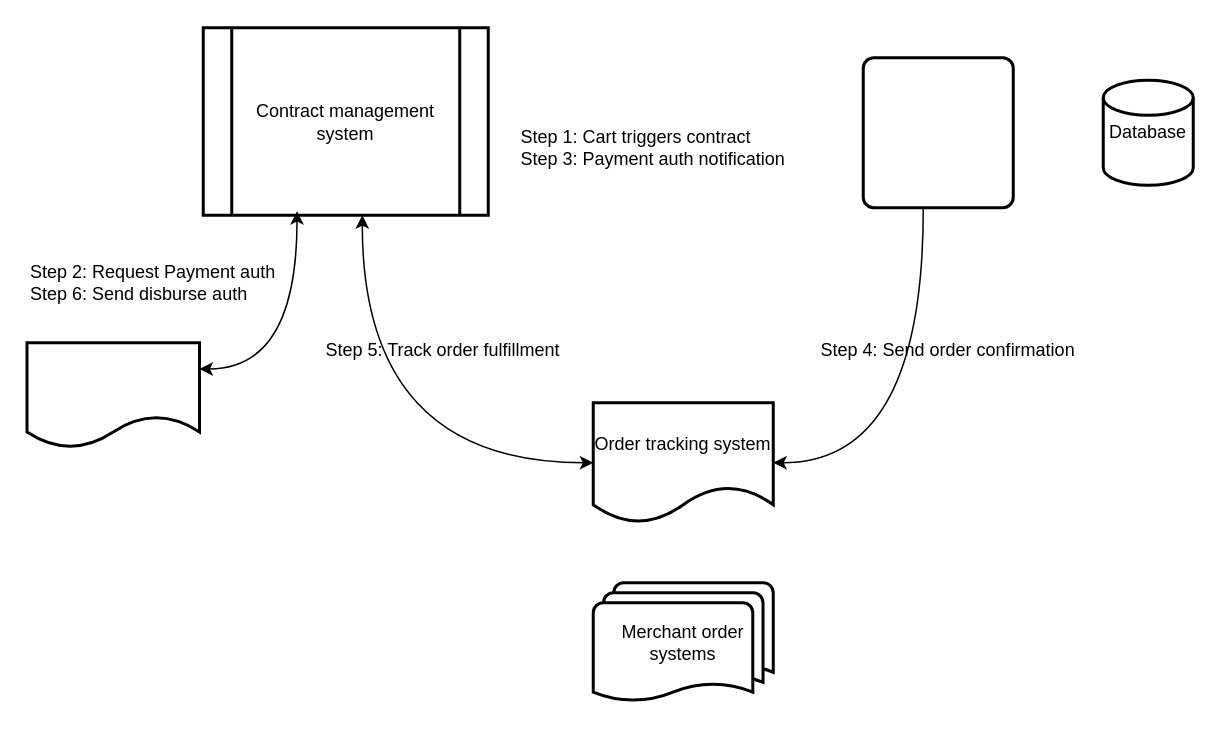
This 1221x729 diagram has some shape labels left out. Here are the shapes that lost their labels. From the top down, the box of each, then its label:
(861, 56, 1014, 208): Shopping cart system
(25, 340, 200, 448): Payment system
